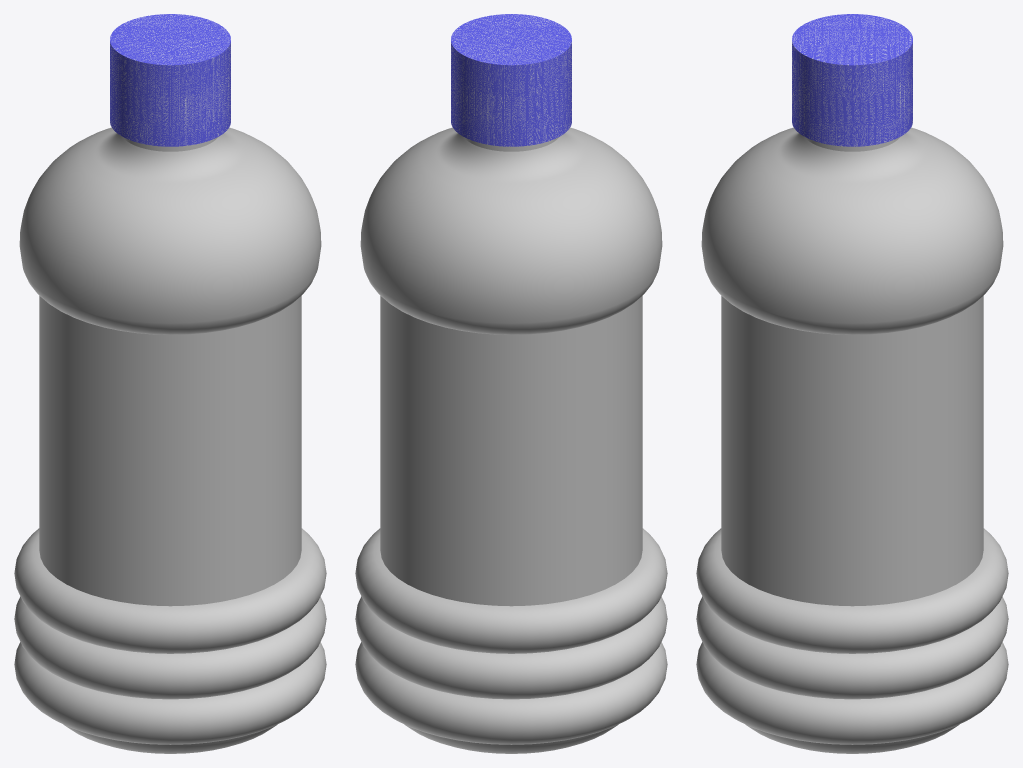
The picture shows the model from 3 angles, left to right: view 1: azimuth 30°, elevation 25°; view 2: azimuth 150°, elevation 25°; view 3: azimuth 270°, elevation 25°; orthographic projection.
Parts seen in each view (by area): view 1: mesh1_mesh1-geometry; view 2: mesh1_mesh1-geometry; view 3: mesh1_mesh1-geometry.
Part boxes in pixels (x1=…): mesh1_mesh1-geometry: x1=14, y1=14, x2=326, y2=753; mesh1_mesh1-geometry: x1=355, y1=14, x2=667, y2=753; mesh1_mesh1-geometry: x1=696, y1=14, x2=1008, y2=753.
Bounding box in the file's own units: 0.3622 × 0.8588 × 0.3622.
